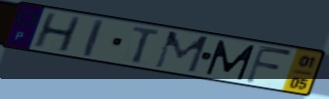F: (243, 44, 295, 86)
H: (30, 12, 83, 54)
I: (82, 18, 106, 59)
M: (152, 30, 211, 75), (203, 38, 258, 82)
T: (130, 25, 163, 65)
